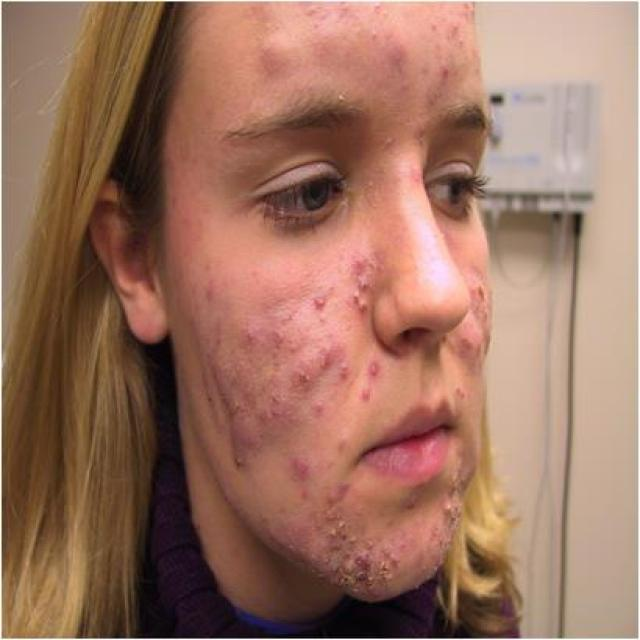acne: (202, 8, 494, 607)
